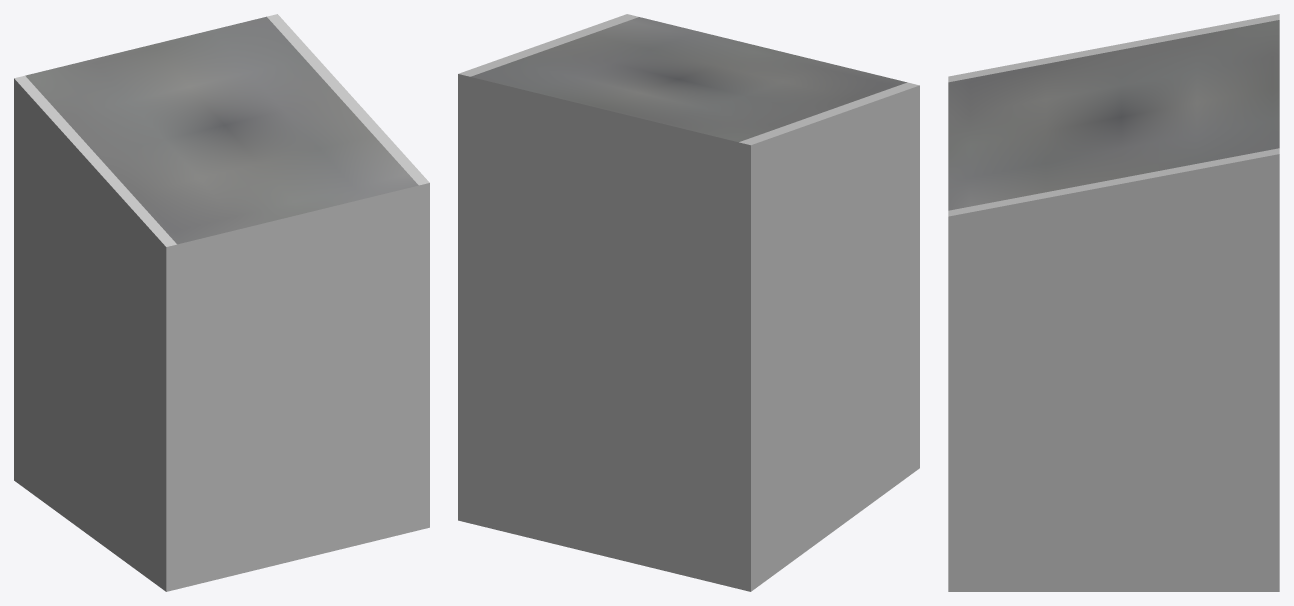
File: JpHouse_23a_site3a.fbx
The picture shows the model from 3 angles, left to right: view 1: azimuth 30°, elevation 25°; view 2: azimuth 150°, elevation 25°; view 3: azimuth 270°, elevation 25°; orthographic projection. The views are drawn at different scales.
Visible parts, largest first — view 1: JpHouse_23a_site3a; view 2: JpHouse_23a_site3a; view 3: JpHouse_23a_site3a.
Part boxes in pixels (x1=…): JpHouse_23a_site3a: x1=14, y1=14, x2=429, y2=591; JpHouse_23a_site3a: x1=458, y1=14, x2=919, y2=591; JpHouse_23a_site3a: x1=948, y1=14, x2=1279, y2=591.
Bounding box in the file's own units: 2.4 × 3.5 × 2.4.
